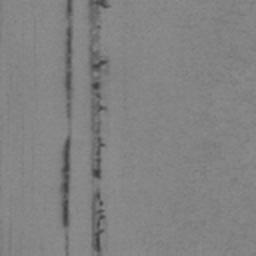Slag inclusion: (86, 0, 114, 182), (59, 132, 72, 256), (64, 0, 74, 124), (90, 191, 106, 253)
